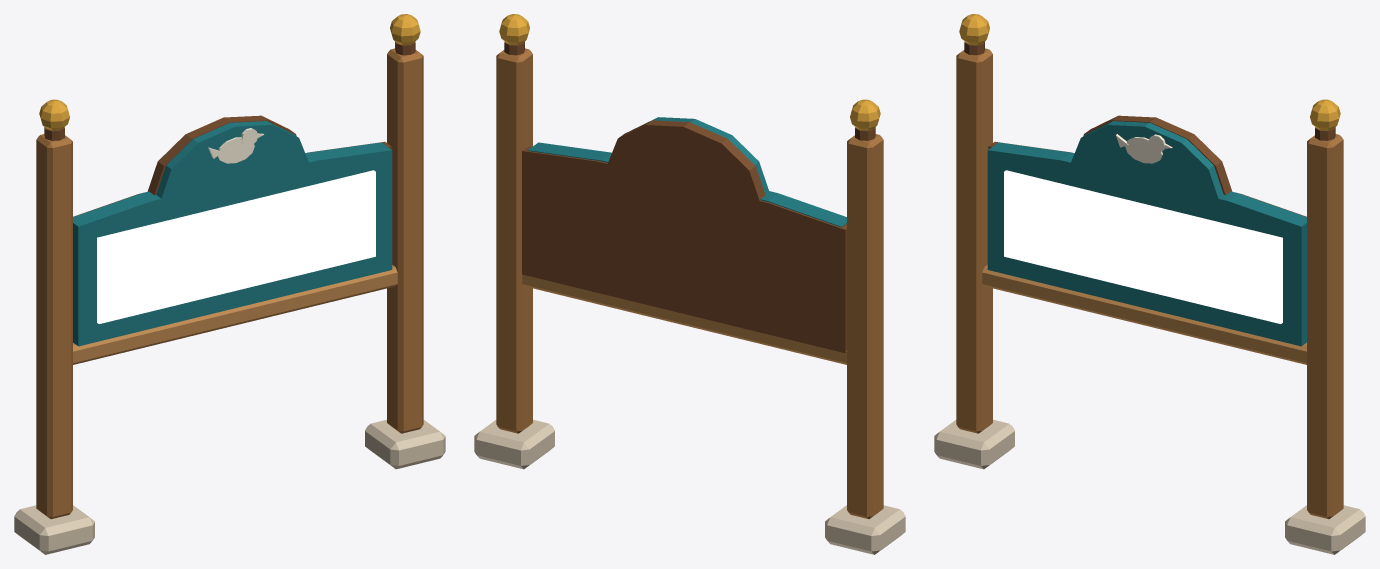
The model's file is scoreboard.glb.
3 views of the same model, side by side, from view 1: azimuth 30°, elevation 25°; view 2: azimuth 150°, elevation 25°; view 3: azimuth 330°, elevation 25° (orthographic).
Parts seen in each view (by area): view 1: scoreboard; view 2: scoreboard; view 3: scoreboard.
Boxes of the visible parts, bbox=[...] form: scoreboard: bbox=[14, 14, 445, 554]; scoreboard: bbox=[474, 14, 905, 554]; scoreboard: bbox=[934, 14, 1365, 554].
Bounding box in the file's own units: 2.2 × 2.28 × 0.3.
